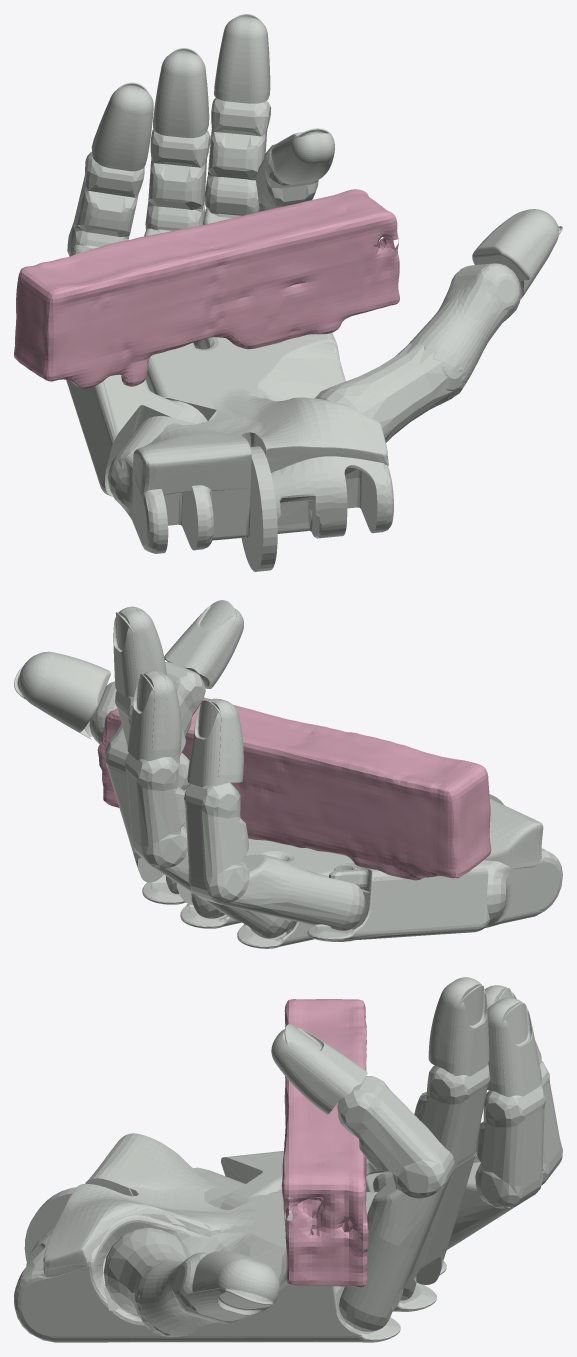
3 views of the same model, one above another, from view 1: azimuth 30°, elevation 25°; view 2: azimuth 150°, elevation 25°; view 3: azimuth 270°, elevation 25° (orthographic). The views are drawn at different scales.
Visible parts, largest first — view 1: hand, world; view 2: hand, world; view 3: hand, world.
Part boxes in pixels (box(x1,y1,x2,y2)): hand: box(66, 14, 562, 571); world: box(14, 189, 399, 388); hand: box(14, 600, 562, 948); world: box(97, 697, 491, 880); hand: box(14, 977, 562, 1342); world: box(281, 999, 368, 1287).
Bounding box in the file's own units: 0.179 × 0.132 × 0.1573.
